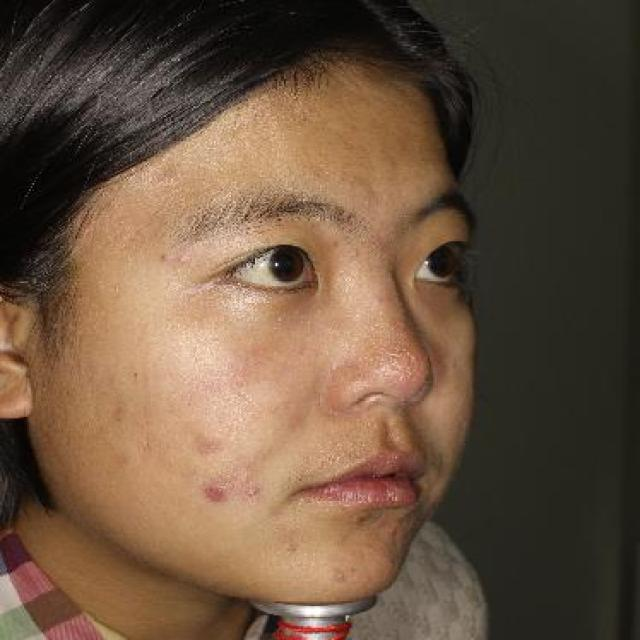blackheads: (154, 248, 176, 264)
dark spot: (195, 478, 238, 509), (324, 563, 354, 591), (240, 480, 265, 502)
whiteheads: (366, 290, 387, 308)
